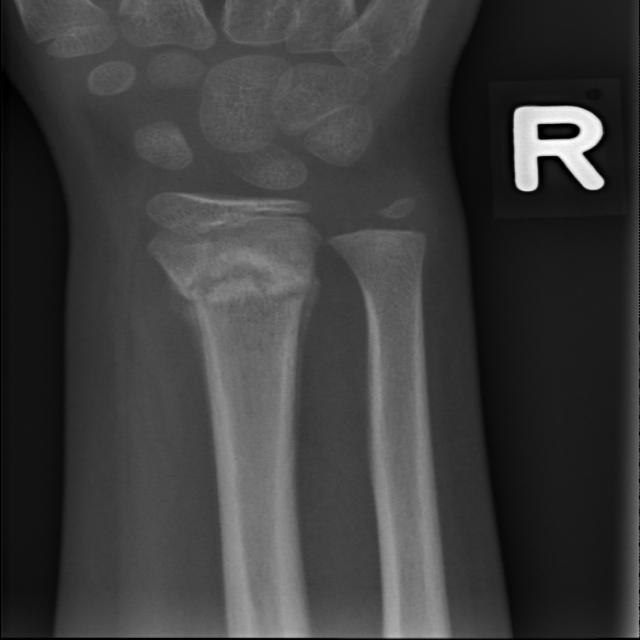radius fracture: (146, 255, 336, 380)
